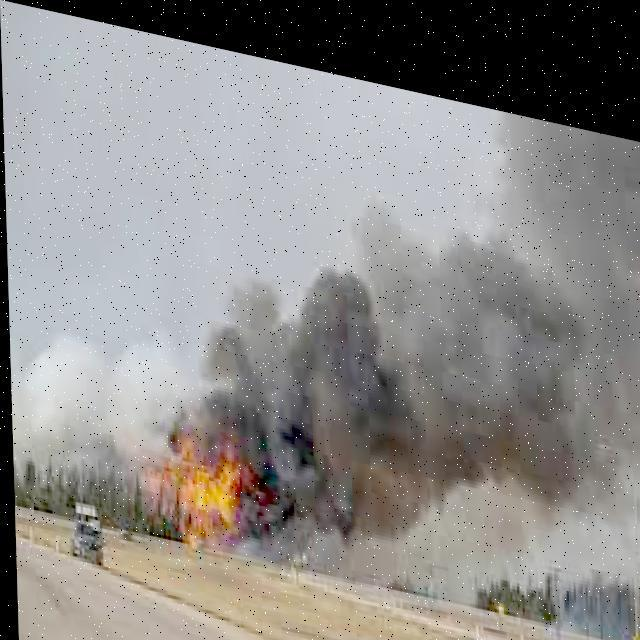Fire: (130, 417, 272, 548)
